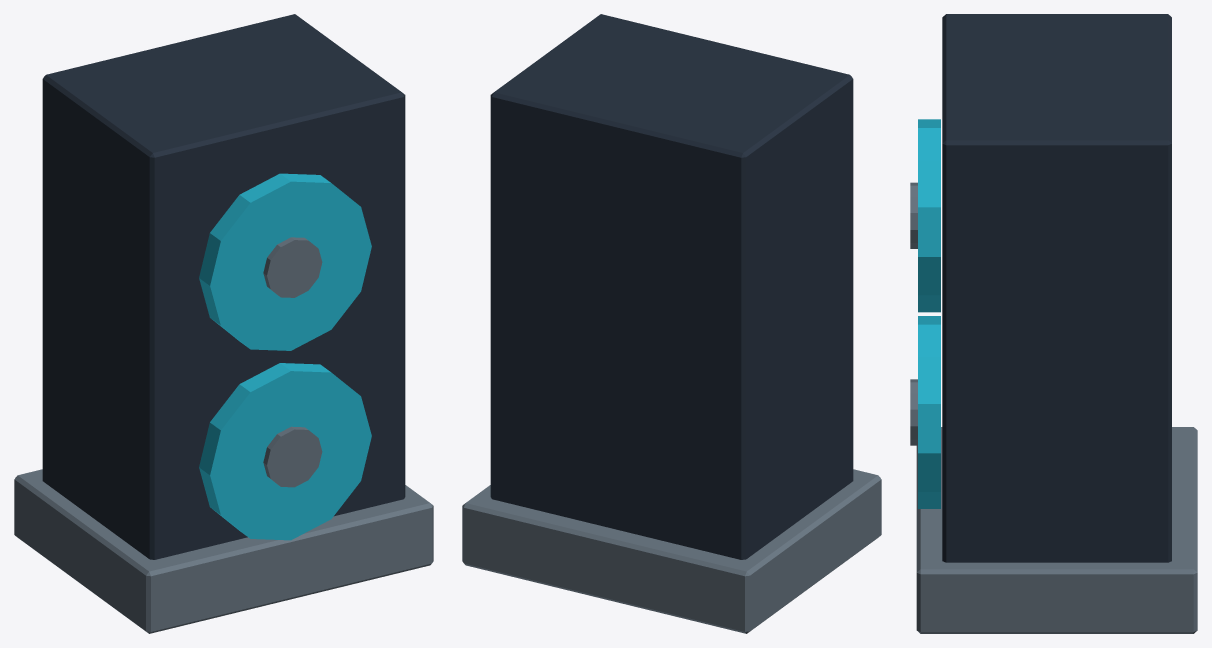
File: cooling-core.glb
3 views of the same model, side by side, from view 1: azimuth 30°, elevation 25°; view 2: azimuth 150°, elevation 25°; view 3: azimuth 270°, elevation 25° (orthographic). The views are drawn at different scales.
Parts seen in each view (by area): view 1: cooling-core_Body; view 2: cooling-core_Body; view 3: cooling-core_Body.
Boxes of the visible parts, x1=… form: cooling-core_Body: x1=14, y1=14, x2=433, y2=633; cooling-core_Body: x1=462, y1=14, x2=881, y2=633; cooling-core_Body: x1=910, y1=14, x2=1197, y2=633.
Size of the model in its own units: 1.35 by 2.1 by 1.12.
